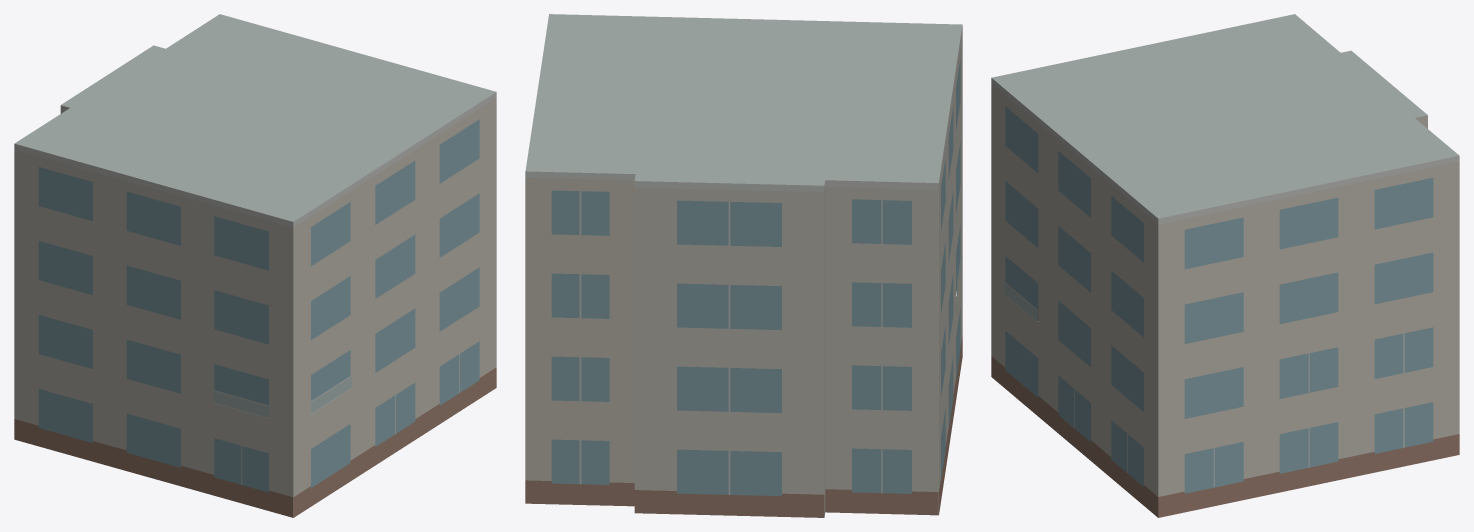
The model's file is survey-upis-32912712.glb.
3 renders of one model, left to right at view 1: azimuth 30°, elevation 25°; view 2: azimuth 150°, elevation 25°; view 3: azimuth 270°, elevation 25°, orthographic. The views are drawn at different scales.
Visible parts, largest first — view 1: survey-upis-32912712.tmp; view 2: survey-upis-32912712.tmp; view 3: survey-upis-32912712.tmp.
Boxes of the visible parts, left/top/right/bottom form: survey-upis-32912712.tmp: left=14, top=14, right=496, bottom=517; survey-upis-32912712.tmp: left=525, top=14, right=962, bottom=517; survey-upis-32912712.tmp: left=991, top=14, right=1459, bottom=517.
Size of the model in its own units: 18.35 by 12.5 by 17.74.
